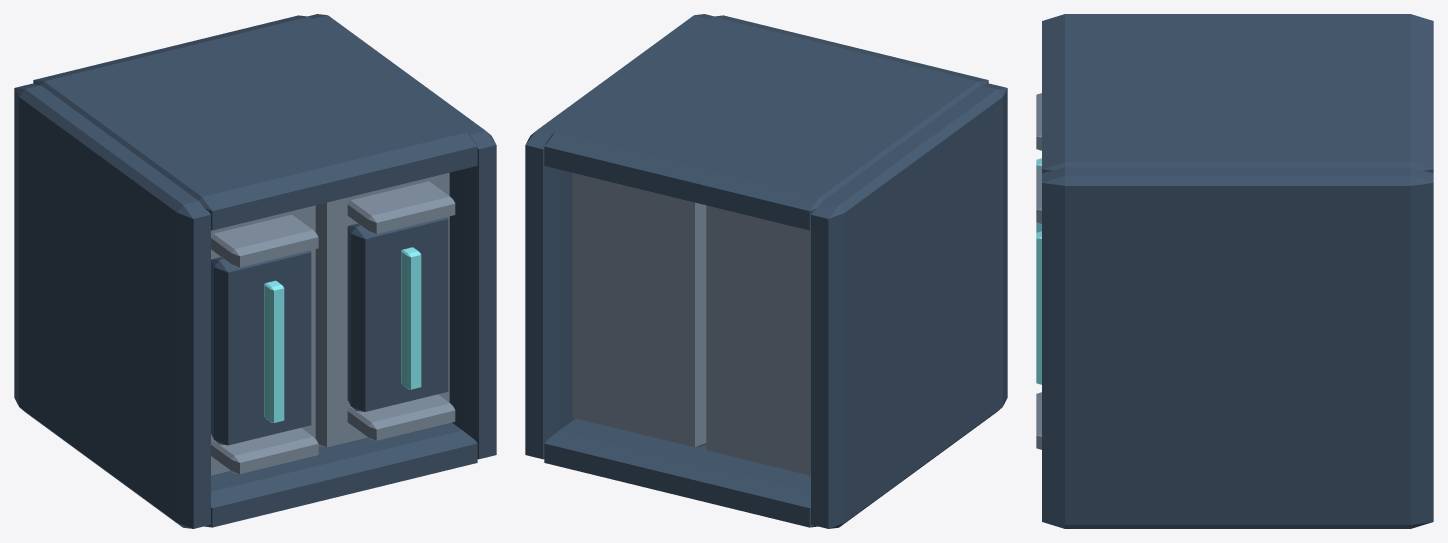
File: EnergyGate.fbx
3 views of the same model, side by side, from view 1: azimuth 30°, elevation 25°; view 2: azimuth 150°, elevation 25°; view 3: azimuth 270°, elevation 25° (orthographic). The views are drawn at different scales.
Parts seen in each view (by area): view 1: Frame, DoorRight, DoorLeft; view 2: Frame, DoorRight, DoorLeft; view 3: Frame, DoorRight.
Part boxes in pixels (bbox=[...]): Frame: bbox=[14, 14, 496, 528]; DoorRight: bbox=[315, 172, 455, 447]; DoorLeft: bbox=[211, 205, 318, 475]; Frame: bbox=[525, 14, 1007, 528]; DoorRight: bbox=[572, 172, 706, 447]; DoorLeft: bbox=[706, 205, 810, 475]; Frame: bbox=[1042, 14, 1433, 528]; DoorRight: bbox=[1036, 166, 1041, 449].
Size of the model in its own units: 1 by 1 by 1.
